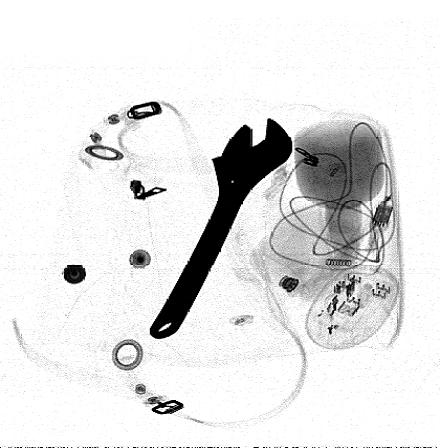Wrench: (149, 113, 291, 339)
